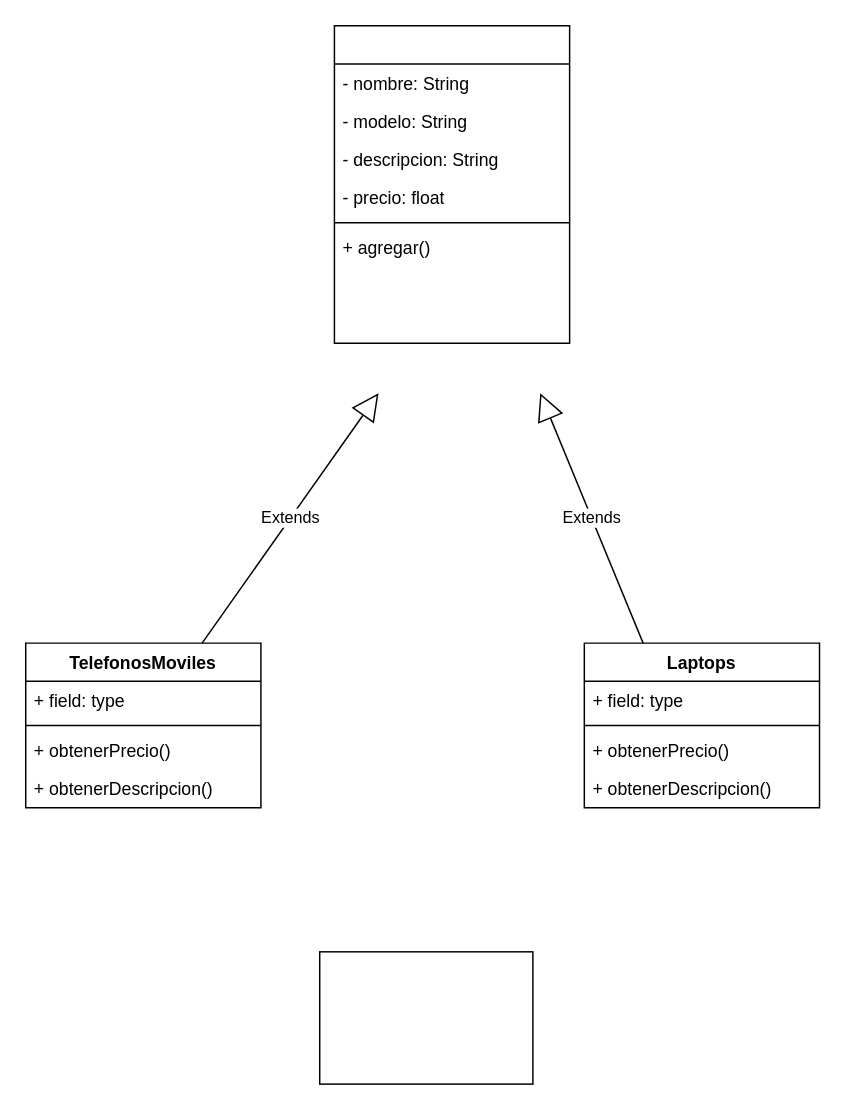
Image size: 845x1110. Some labels were removed from this diagram. Each missing label, with the box of its shape:
Dispositivos: (333, 24, 570, 343)
«interface» obtenerInfo +obtenerPrecio() +obtenerInfo(): (318, 950, 533, 1084)
